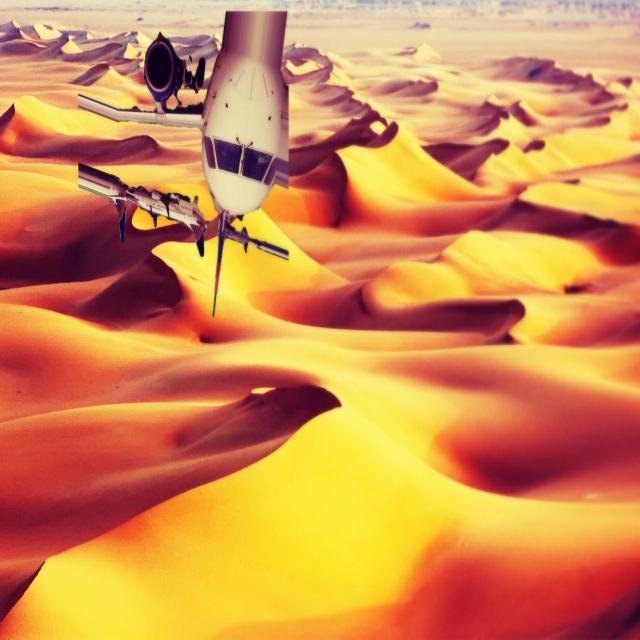airplane: (77, 12, 288, 320)
